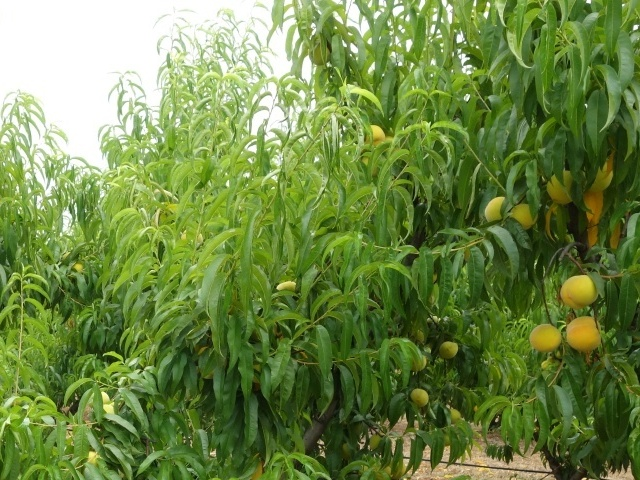peach: (557, 271, 601, 313), (545, 165, 585, 209), (565, 314, 607, 354), (524, 320, 565, 356), (584, 157, 616, 195), (483, 193, 513, 228), (507, 200, 537, 230), (361, 121, 389, 148), (306, 43, 334, 70), (407, 386, 431, 411), (435, 338, 460, 360), (274, 275, 299, 297), (366, 432, 387, 455), (444, 404, 463, 427)
